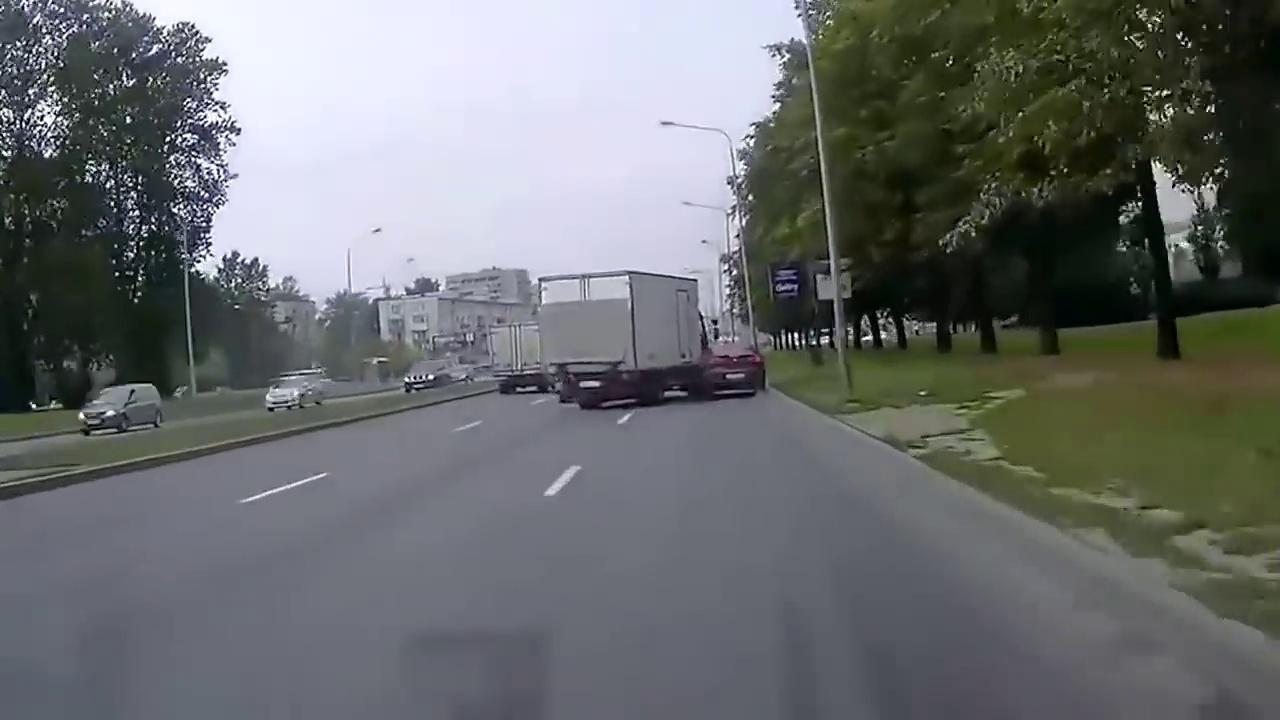car-accident: (529, 266, 770, 408)
